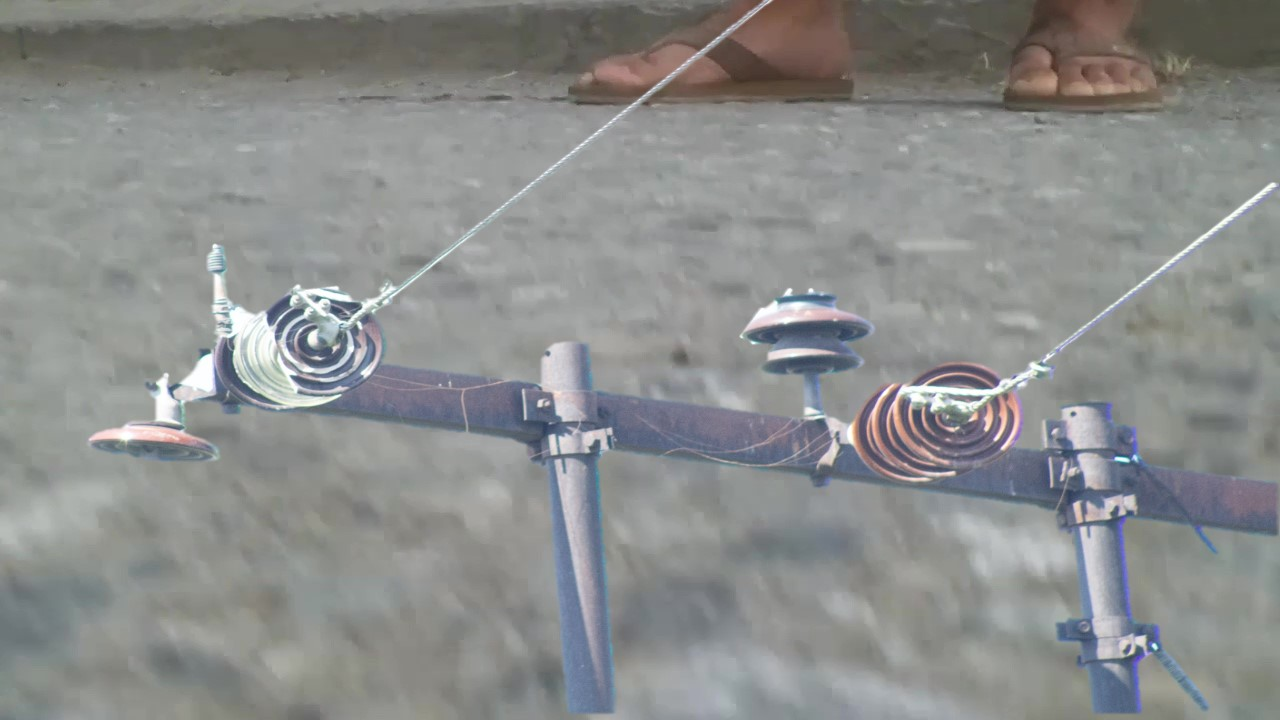defect_disc: (265, 285, 385, 400)
insulator_disc: (893, 360, 1026, 477), (85, 414, 232, 478)
